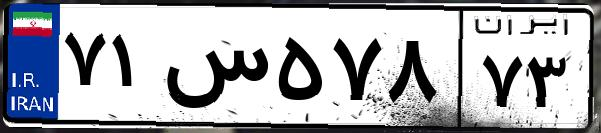1: (110, 28, 158, 98)
3: (525, 38, 570, 115)
5: (270, 28, 330, 110)
7: (330, 28, 385, 110), (57, 26, 110, 100), (475, 38, 525, 113)
8: (385, 28, 445, 110)
س: (158, 20, 270, 120)
